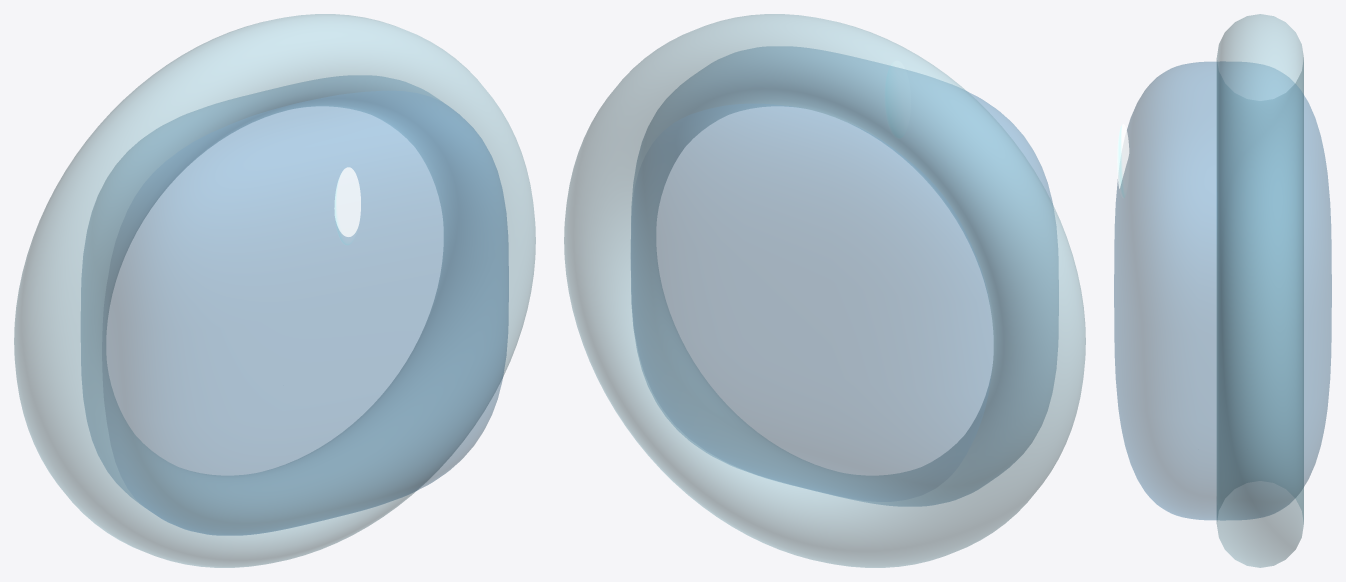
3 views of the same model, side by side, from view 1: azimuth 30°, elevation 25°; view 2: azimuth 150°, elevation 25°; view 3: azimuth 270°, elevation 25° (orthographic). The views are drawn at different scales.
Parts seen in each view (by area): view 1: dial-cap, dial-collar, dial-marker; view 2: dial-cap, dial-collar, dial-marker; view 3: dial-cap, dial-collar, dial-marker.
Boxes of the visible parts, x1,y1,x2,y2 form: dial-cap: (81,75,508,535); dial-collar: (14,14,535,567); dial-marker: (334,167,360,245); dial-cap: (631,46,1058,506); dial-collar: (564,14,1085,567); dial-marker: (884,61,910,138); dial-cap: (1114,61,1331,520); dial-collar: (1216,14,1303,567); dial-marker: (1117,124,1129,197).
Bounding box in the file's own units: 1.78 × 1.78 × 0.7.
